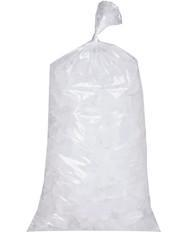LDPE: (26, 0, 162, 232)
